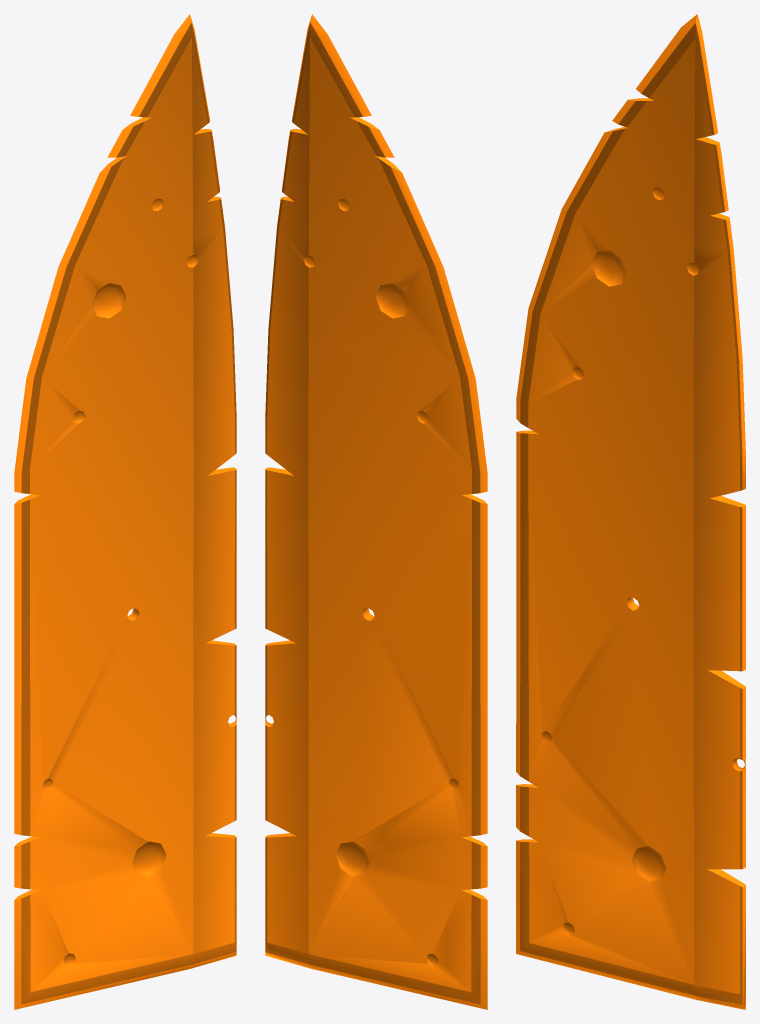
File: bronze_blade_bubbles_036.glb
3 renders of one model, left to right at view 1: azimuth 30°, elevation 25°; view 2: azimuth 150°, elevation 25°; view 3: azimuth 330°, elevation 25°, orthographic. The views are drawn at different scales.
Parts seen in each view (by area): view 1: bronze_blade_bubbles.036; view 2: bronze_blade_bubbles.036; view 3: bronze_blade_bubbles.036.
Boxes of the visible parts, x1,y1,x2,y2 form: bronze_blade_bubbles.036: (14,14,236,1009); bronze_blade_bubbles.036: (265,14,487,1009); bronze_blade_bubbles.036: (516,14,745,1009).
Bounding box in the file's own units: 2.79 × 11.43 × 0.1594.
1 material, 1 textured.
